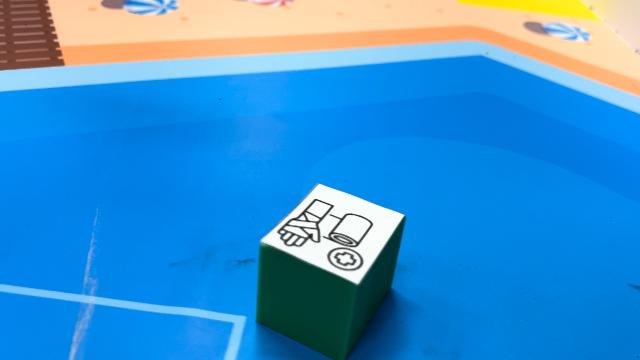bandage: (256, 183, 406, 359)
